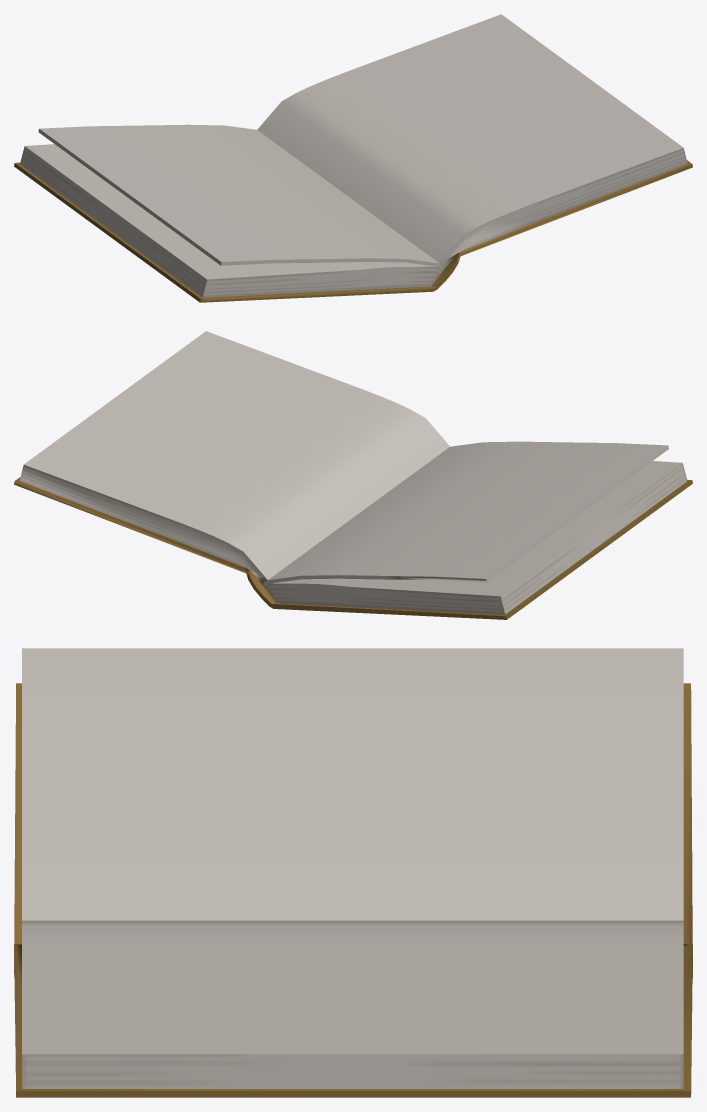
Rendered from Book.glb.
3 renders of one model, top to bottom at view 1: azimuth 30°, elevation 25°; view 2: azimuth 150°, elevation 25°; view 3: azimuth 270°, elevation 25°, orthographic. The views are drawn at different scales.
Visible parts, largest first — view 1: SkillObj_Kokomi_Book_LOD0; view 2: SkillObj_Kokomi_Book_LOD0; view 3: SkillObj_Kokomi_Book_LOD0.
Boxes of the visible parts, <box> form: SkillObj_Kokomi_Book_LOD0: <box>14,14,692,302</box>; SkillObj_Kokomi_Book_LOD0: <box>14,331,692,619</box>; SkillObj_Kokomi_Book_LOD0: <box>14,648,692,1097</box>.
Bounding box in the file's own units: 0.2562 × 0.0402 × 0.1686.
Materials: 1 (1 with a texture image).
